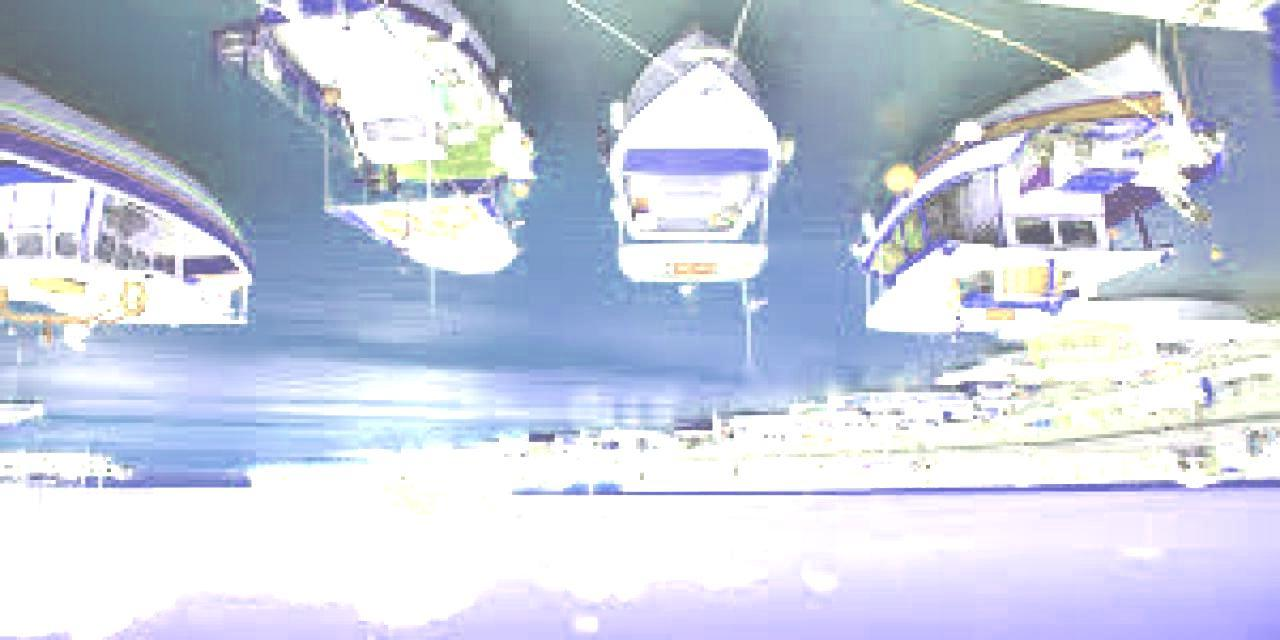Kules: (246, 462, 511, 534)
